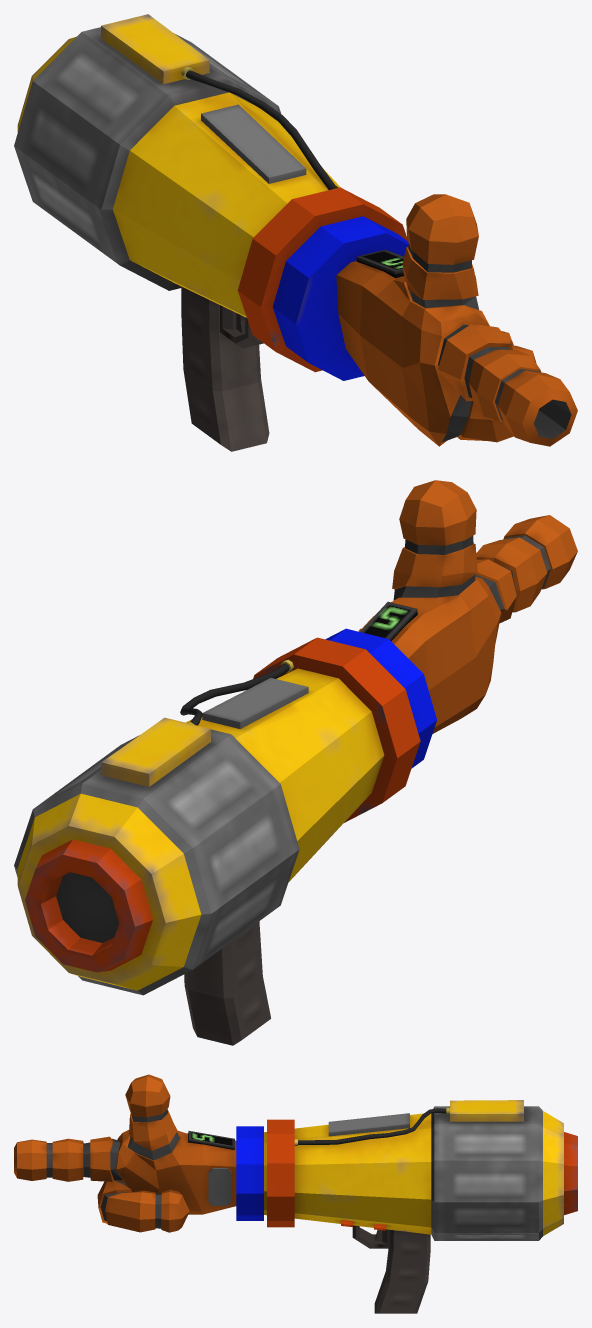
The model's file is WeaponHuggy.fbx.
The picture shows the model from 3 angles, top to bottom: view 1: azimuth 30°, elevation 25°; view 2: azimuth 150°, elevation 25°; view 3: azimuth 270°, elevation 25°; orthographic projection. The views are drawn at different scales.
Visible parts, largest first — view 1: WeaponHuggy; view 2: WeaponHuggy; view 3: WeaponHuggy.
Part boxes in pixels (x1,y1,x2,y2): WeaponHuggy: (14, 14, 577, 451); WeaponHuggy: (14, 480, 577, 1045); WeaponHuggy: (14, 1074, 577, 1313).
Size of the model in its own units: 19.43 by 36.94 by 80.78.
1 material, 1 textured.
